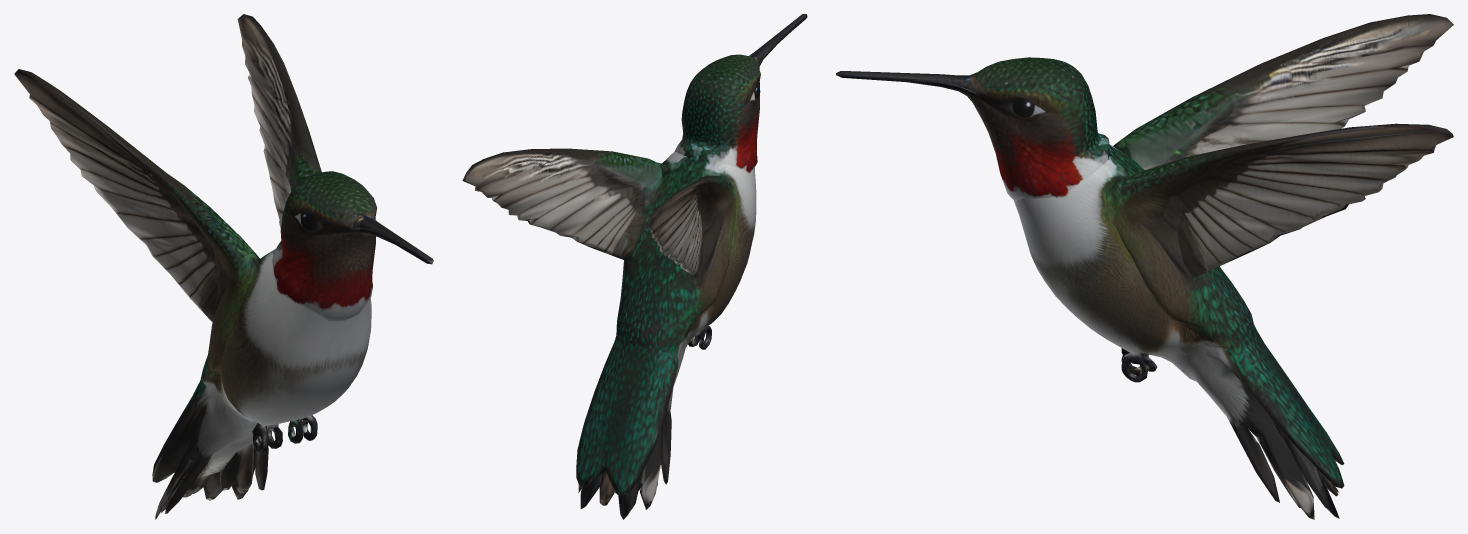
The model's file is colibri.fbx.
3 renders of one model, left to right at view 1: azimuth 30°, elevation 25°; view 2: azimuth 150°, elevation 25°; view 3: azimuth 270°, elevation 25°, orthographic. The views are drawn at different scales.
Visible parts, largest first — view 1: tripo_part_12, tripo_part_3, tripo_part_14, tripo_part_1, tripo_part_13, tripo_part_2, tripo_part_15, tripo_part_0; view 2: tripo_part_14, tripo_part_15, tripo_part_12, tripo_part_2, tripo_part_11, tripo_part_3, tripo_part_13, tripo_part_8, tripo_part_1, tripo_part_9, tripo_part_10, tripo_part_0; view 3: tripo_part_14, tripo_part_12, tripo_part_3, tripo_part_10, tripo_part_2, tripo_part_13, tripo_part_15, tripo_part_1, tripo_part_0, tripo_part_6.
Boxes of the visible parts, x1=… form: tripo_part_12: x1=14, y1=69, x2=260, y2=369; tripo_part_3: x1=214, y1=252, x2=371, y2=426; tripo_part_14: x1=237, y1=14, x2=321, y2=229; tripo_part_1: x1=271, y1=219, x2=375, y2=320; tripo_part_13: x1=155, y1=399, x2=269, y2=519; tripo_part_2: x1=280, y1=171, x2=380, y2=263; tripo_part_15: x1=152, y1=376, x2=244, y2=482; tripo_part_0: x1=360, y1=217, x2=433, y2=264; tripo_part_14: x1=462, y1=148, x2=672, y2=261; tripo_part_15: x1=576, y1=332, x2=689, y2=495; tripo_part_12: x1=646, y1=175, x2=736, y2=300; tripo_part_2: x1=681, y1=50, x2=760, y2=146; tripo_part_11: x1=628, y1=256, x2=700, y2=345; tripo_part_3: x1=662, y1=151, x2=756, y2=341; tripo_part_13: x1=578, y1=348, x2=684, y2=519; tripo_part_8: x1=633, y1=160, x2=711, y2=280; tripo_part_1: x1=674, y1=62, x2=759, y2=173; tripo_part_9: x1=671, y1=225, x2=721, y2=346; tripo_part_10: x1=616, y1=260, x2=652, y2=347; tripo_part_0: x1=752, y1=14, x2=807, y2=65; tripo_part_14: x1=1110, y1=123, x2=1453, y2=277; tripo_part_12: x1=1113, y1=14, x2=1453, y2=170; tripo_part_3: x1=1014, y1=156, x2=1198, y2=356; tripo_part_10: x1=1113, y1=195, x2=1254, y2=347; tripo_part_2: x1=950, y1=57, x2=1097, y2=158; tripo_part_13: x1=1161, y1=345, x2=1339, y2=519; tripo_part_15: x1=1204, y1=325, x2=1344, y2=488; tripo_part_1: x1=967, y1=92, x2=1119, y2=202; tripo_part_0: x1=836, y1=71, x2=974, y2=95; tripo_part_6: x1=1121, y1=353, x2=1165, y2=382.
Size of the model in its own units: 40.66 by 74.95 by 94.64.
1 material, 1 textured.
